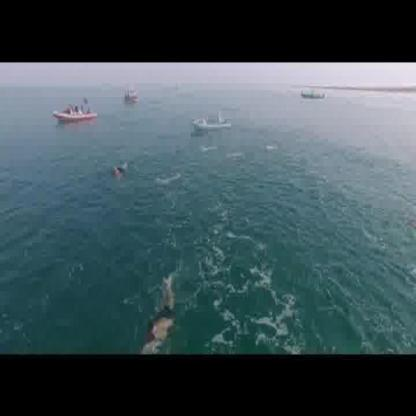Boat: (51, 97, 98, 124), (190, 113, 235, 136), (298, 90, 327, 105)
